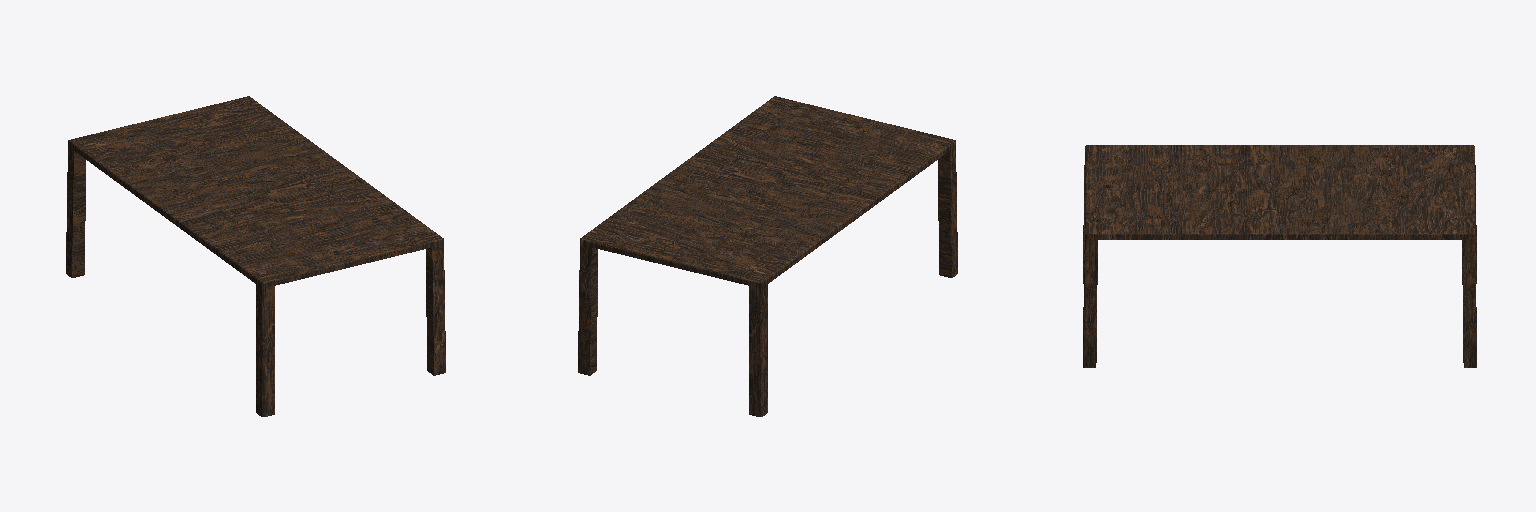
3 views of the same model, side by side, from view 1: azimuth 30°, elevation 25°; view 2: azimuth 150°, elevation 25°; view 3: azimuth 270°, elevation 25° (orthographic).
Parts seen in each view (by area): view 1: Cube.003_Cube.005; view 2: Cube.003_Cube.005; view 3: Cube.003_Cube.005.
Part boxes in pixels (x1,y1,x2,y2): Cube.003_Cube.005: (66,96,445,416); Cube.003_Cube.005: (578,96,957,416); Cube.003_Cube.005: (1083,145,1476,367).
Size of the model in its own units: 1.09 by 0.7576 by 2.02.
Materials: 1 (1 with a texture image).